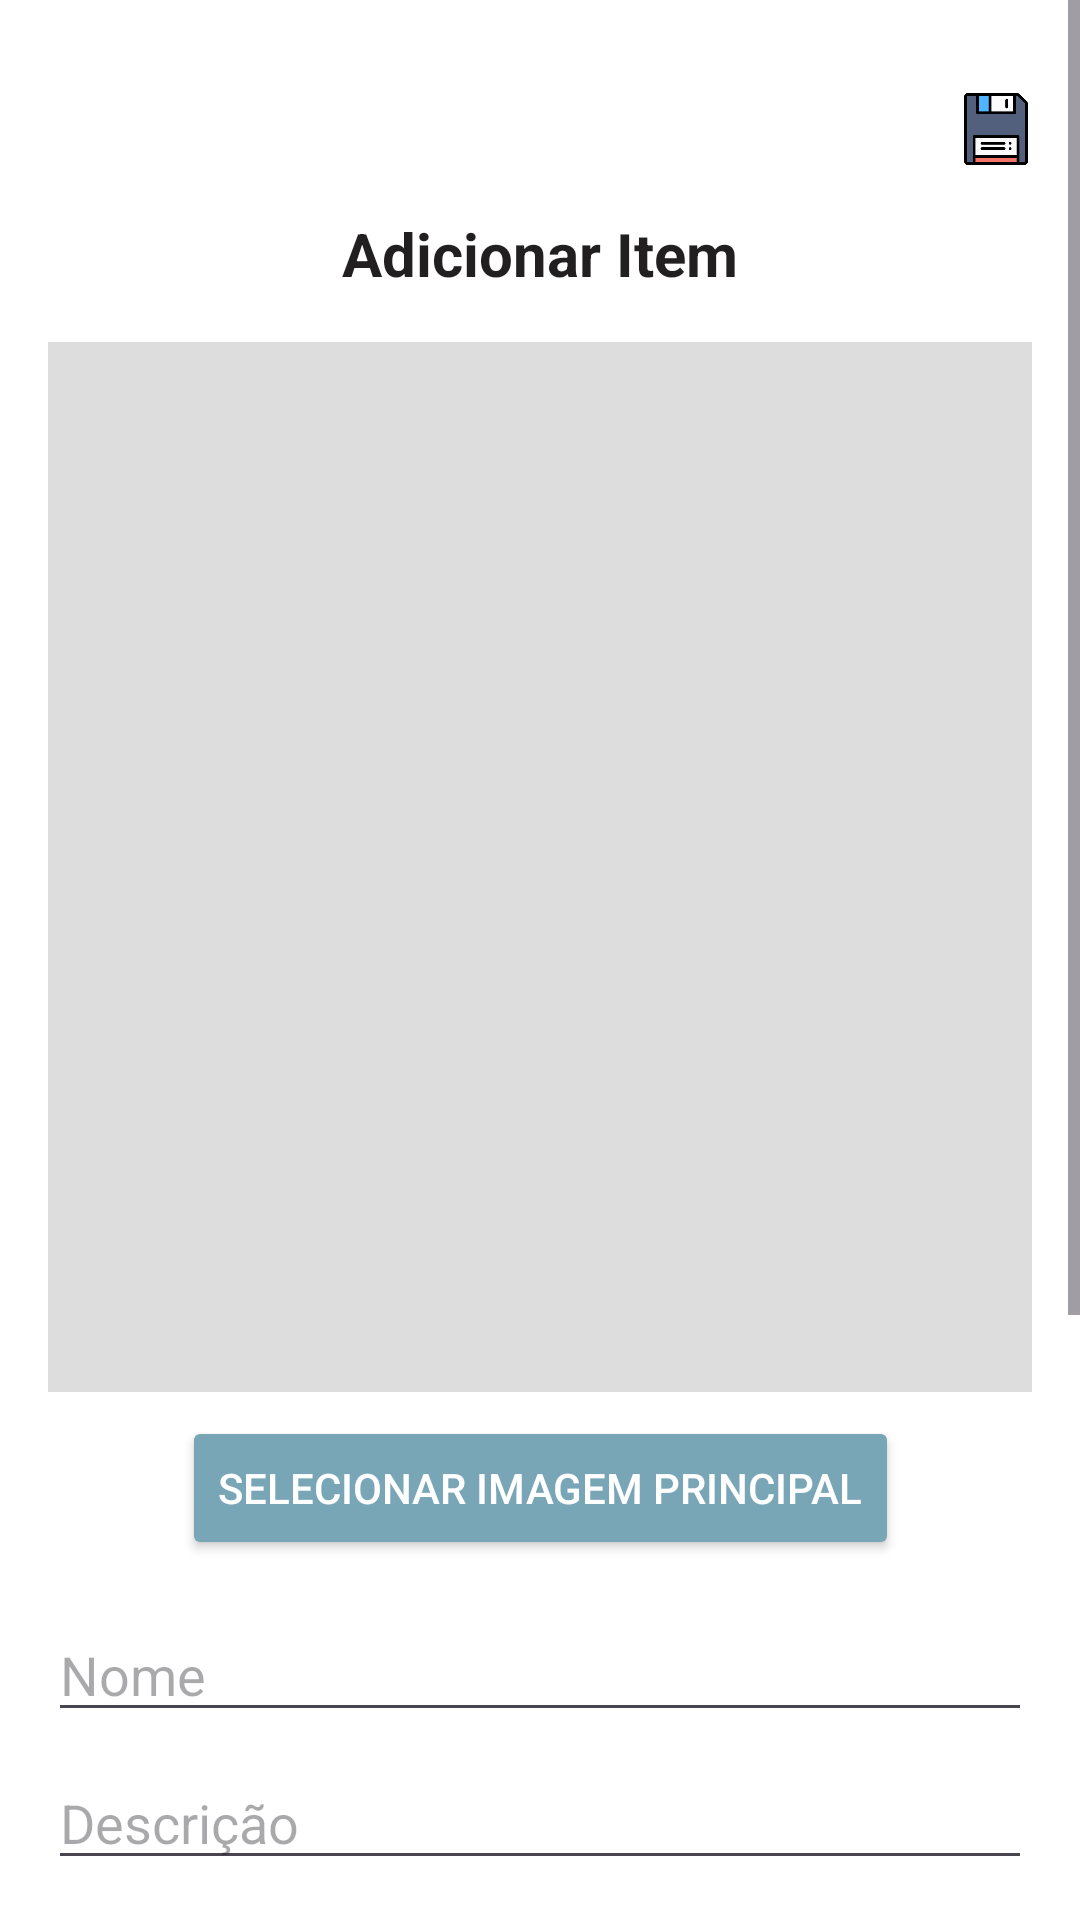

Screen size 1080px x 1920px. Icon name, then its box in pixels as {"left": x1, "top": y1, "right": x2, "bottom": y2}:
save: {"left": 964, "top": 93, "right": 1028, "bottom": 165}
